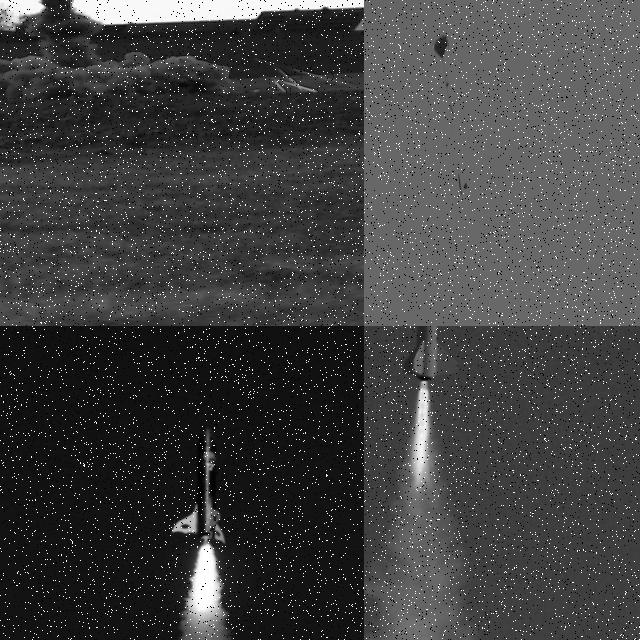Rocket: (171, 422, 228, 546), (401, 326, 461, 382)
